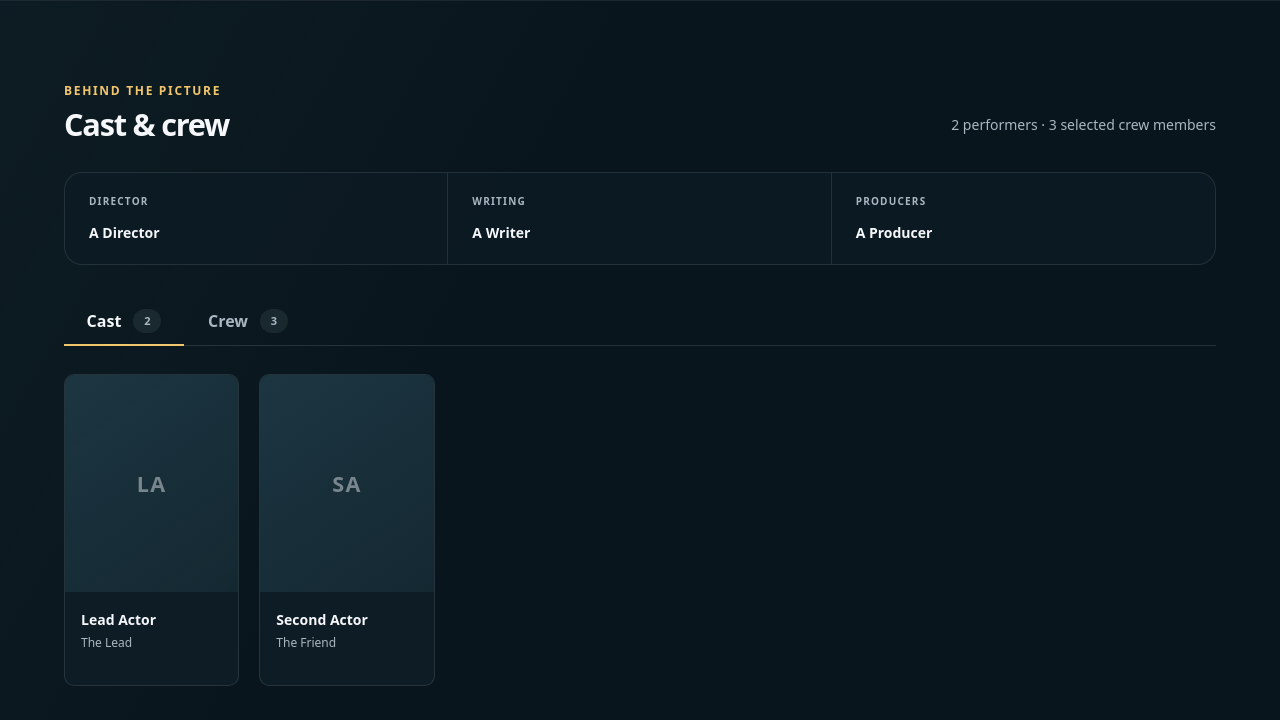
Test: MovieCredits › renders key creatives and switches between complete cast and crew views
The image size is (1280, 720).
Expected: the link "A Director" is shown, left=89, top=221, right=160, bottom=244
Expected: the link "A Writer" is shown, left=472, top=221, right=530, bottom=244
What coordinates should you click on to do the following:
click the tab "Crew 3"
I would click on:
 (248, 321)
Its box is left=188, top=297, right=308, bottom=345.
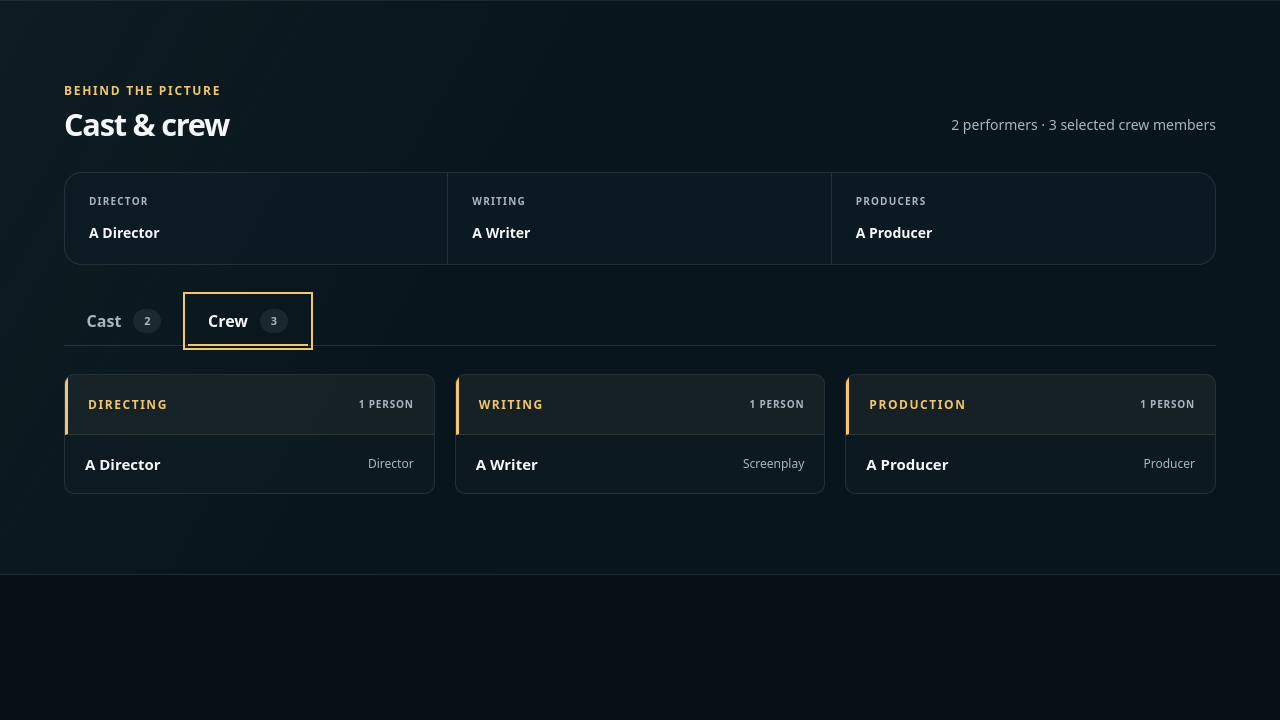
Expected: the heading "Directing" is shown, left=88, top=395, right=168, bottom=414
Expected: the text "Screenplay" is shown, left=743, top=455, right=804, bottom=472
Expected: the link "Lead Actor" is gone
